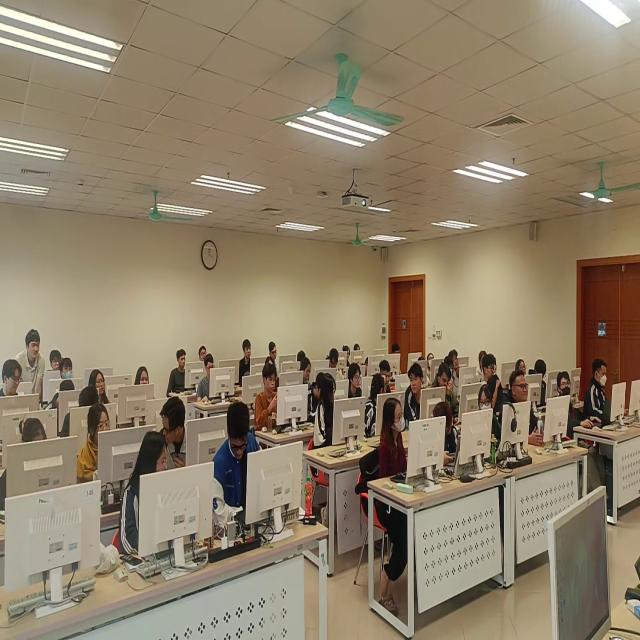raise_head: (380, 403, 416, 517), (508, 375, 538, 456), (475, 388, 505, 459), (558, 375, 584, 454), (131, 367, 156, 423), (90, 369, 117, 411), (238, 340, 256, 392), (47, 348, 63, 378), (61, 360, 78, 383), (263, 340, 279, 364), (452, 351, 463, 377), (198, 343, 209, 363)
stand: (21, 330, 45, 409)
using_computer: (3, 417, 61, 506), (84, 406, 123, 492), (590, 358, 632, 421), (258, 372, 287, 440), (199, 357, 231, 412), (167, 353, 201, 404), (432, 368, 463, 419), (66, 392, 99, 435), (534, 355, 554, 408), (346, 365, 372, 404), (297, 360, 320, 397), (326, 344, 340, 375), (484, 361, 500, 385)
